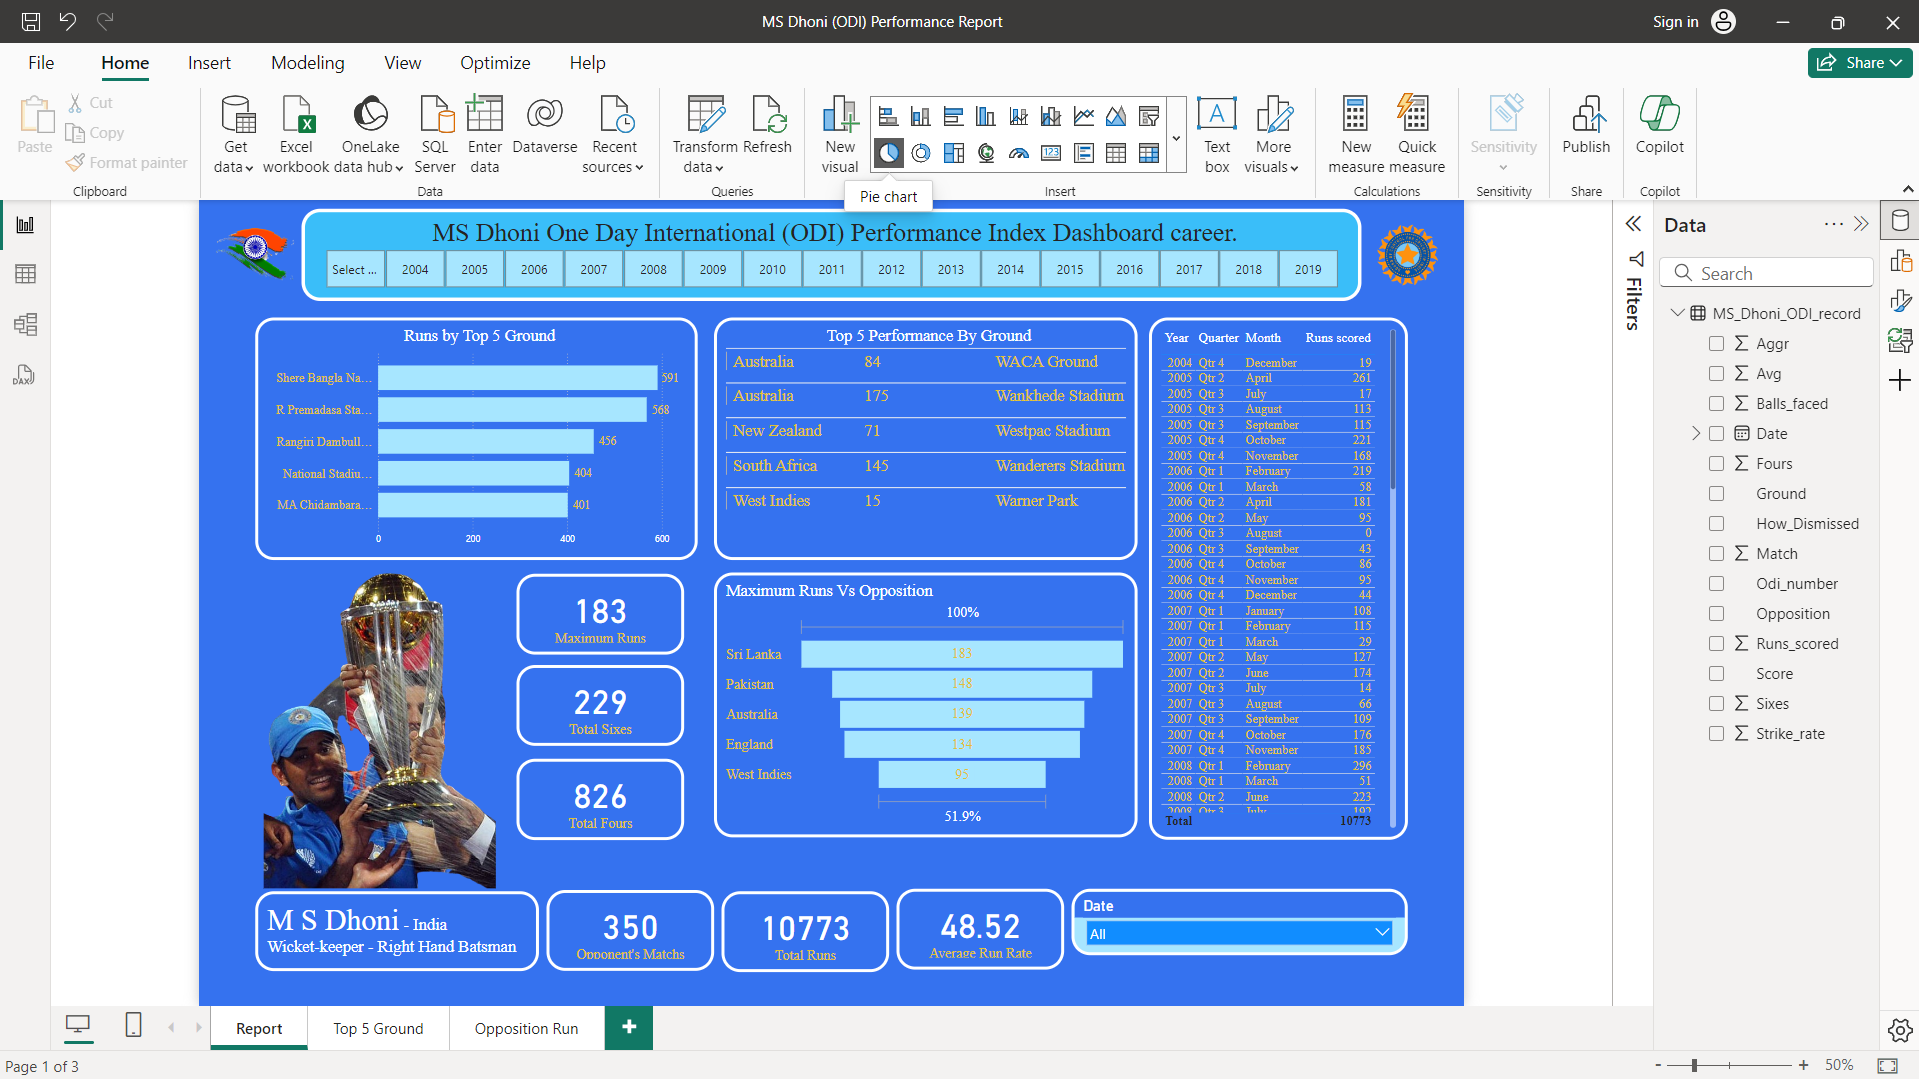

The page's visual inventory and layout, read from the dashboard file:
{"tool":"powerbi","page":{"name":"Report","canvas":[2040,1300],"ordinal":0},"visuals":[{"type":"slicer","title":"MS Dhoni One Day International (ODI) Performance Index Dashboard career.","fields":{"Values":["MS_Dhoni_ODI_record.Date.Variation.Date Hierarchy.Year"]},"box":[165.3,14.1,1709.7,149.2],"z":0},{"type":"tableEx","fields":{"Values":["MS_Dhoni_ODI_record.Date.Variation.Date Hierarchy.Year","MS_Dhoni_ODI_record.Date.Variation.Date Hierarchy.Quarter","MS_Dhoni_ODI_record.Date.Variation.Date Hierarchy.Month","Sum(MS_Dhoni_ODI_record.Runs_scored)"]},"box":[1532.3,189.5,417.3,842.7],"z":1000},{"type":"funnel","title":"Maximum Runs Vs Opposition","fields":{"Category":["MS_Dhoni_ODI_record.Opposition"],"Y":["Max(MS_Dhoni_ODI_record.Runs_scored)"]},"box":[830.6,600.8,683.5,427.4],"z":2000},{"type":"card","fields":{"Values":["Count(MS_Dhoni_ODI_record.Match)"]},"box":[560.5,1113.2,270,130],"z":3000},{"type":"card","fields":{"Values":["Sum(MS_Dhoni_ODI_record.Runs_scored)"]},"box":[843,1114,270,130],"z":4000},{"type":"card","fields":{"Values":["Max(MS_Dhoni_ODI_record.Runs_scored)"]},"box":[512,602.1,270,130],"z":5000},{"type":"card","fields":{"Values":["Avg(MS_Dhoni_ODI_record.Avg)"]},"box":[1125.5,1110,270,130],"z":6000},{"type":"card","fields":{"Values":["Sum(MS_Dhoni_ODI_record.Sixes)"]},"box":[512,750.1,270,130],"z":7000},{"type":"card","fields":{"Values":["Sum(MS_Dhoni_ODI_record.Fours)"]},"box":[512.1,901.2,270.2,131],"z":8000},{"type":"multiRowCard","title":"Top 5 Performance By Ground","fields":{"Values":["MS_Dhoni_ODI_record.Opposition","Sum(MS_Dhoni_ODI_record.Runs_scored)","MS_Dhoni_ODI_record.Ground"]},"box":[830.6,189.5,683.5,391.1],"z":9000},{"type":"slicer","title":"Date","fields":{"Values":["MS_Dhoni_ODI_record.Date.Variation.Date Hierarchy.Year"]},"box":[1407.3,1110.9,542.3,106.9],"z":10000},{"type":"image","box":[16.1,14.1,149.2,149.2],"z":11000},{"type":"image","box":[1875,14.1,149.2,149.2],"z":12000},{"type":"image","box":[90.7,580.6,401.2,534.3],"z":13000},{"type":"textbox","box":[90.7,1114.9,457.7,129],"z":14000},{"type":"barChart","title":"Runs by Top 5 Ground","fields":{"Category":["MS_Dhoni_ODI_record.Ground"],"Y":["Sum(MS_Dhoni_ODI_record.Runs_scored)"]},"box":[90.7,189.5,713.7,391.1],"z":15000}]}

Visuals, with their boxes on the page's 2040x1300 design canvas (x1, y1, x2, y2). These are canvas units, not pixel positions in the 1919x1079 screenshot, which may show the page scaled, cropped or inside an application window:
"MS Dhoni One Day International (ODI) Performance Index Dashboard career." slicer: bbox=(165, 14, 1875, 163)
tableEx - MS_Dhoni_ODI_record.Date.Variation.Date Hierarchy.Year x MS_Dhoni_ODI_record.Date.Variation.Date Hierarchy.Quarter: bbox=(1532, 190, 1950, 1032)
"Maximum Runs Vs Opposition" funnel: bbox=(831, 601, 1514, 1028)
card - Count(MS_Dhoni_ODI_record.Match): bbox=(560, 1113, 830, 1243)
card - Sum(MS_Dhoni_ODI_record.Runs_scored): bbox=(843, 1114, 1113, 1244)
card - Max(MS_Dhoni_ODI_record.Runs_scored): bbox=(512, 602, 782, 732)
card - Avg(MS_Dhoni_ODI_record.Avg): bbox=(1126, 1110, 1396, 1240)
card - Sum(MS_Dhoni_ODI_record.Sixes): bbox=(512, 750, 782, 880)
card - Sum(MS_Dhoni_ODI_record.Fours): bbox=(512, 901, 782, 1032)
"Top 5 Performance By Ground" multiRowCard: bbox=(831, 190, 1514, 581)
"Date" slicer: bbox=(1407, 1111, 1950, 1218)
image: bbox=(16, 14, 165, 163)
image: bbox=(1875, 14, 2024, 163)
image: bbox=(91, 581, 492, 1115)
textbox: bbox=(91, 1115, 548, 1244)
"Runs by Top 5 Ground" barChart: bbox=(91, 190, 804, 581)
